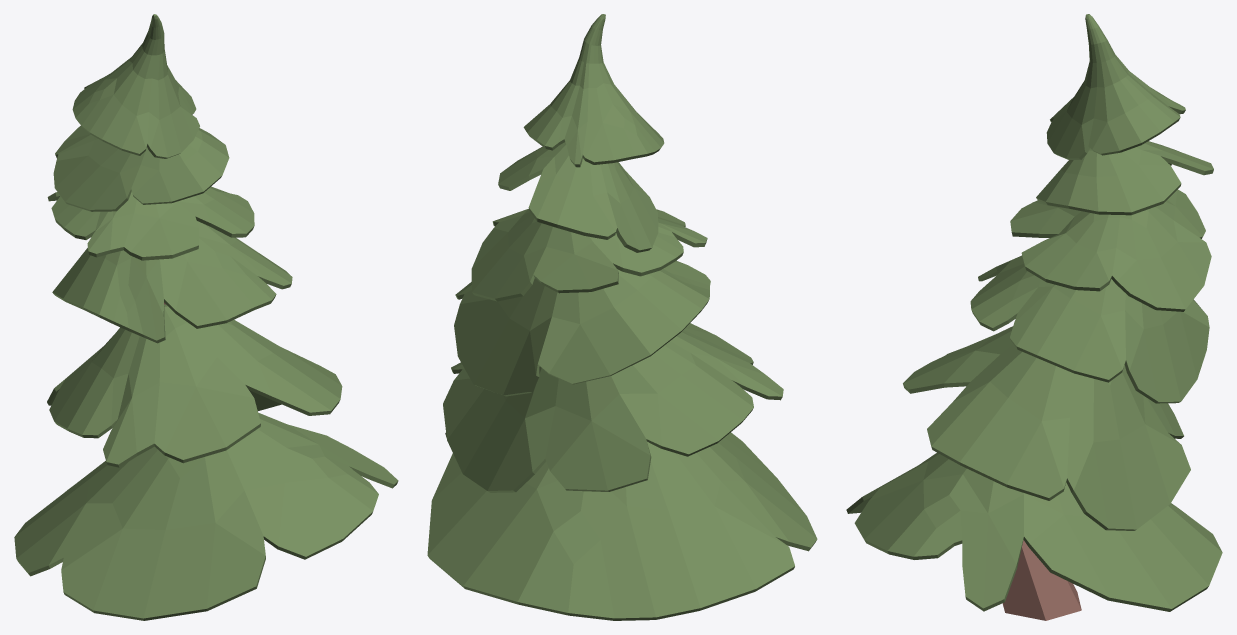
File: pine_3.glb
3 views of the same model, side by side, from view 1: azimuth 30°, elevation 25°; view 2: azimuth 150°, elevation 25°; view 3: azimuth 270°, elevation 25° (orthographic). The views are drawn at different scales.
Parts seen in each view (by area): view 1: pine_3; view 2: pine_3; view 3: pine_3.
Part boxes in pixels (x1=…): pine_3: x1=14, y1=14, x2=398, y2=620; pine_3: x1=427, y1=14, x2=817, y2=620; pine_3: x1=846, y1=14, x2=1222, y2=620.
Bounding box in the file's own units: 2.16 × 3.3 × 1.95.
